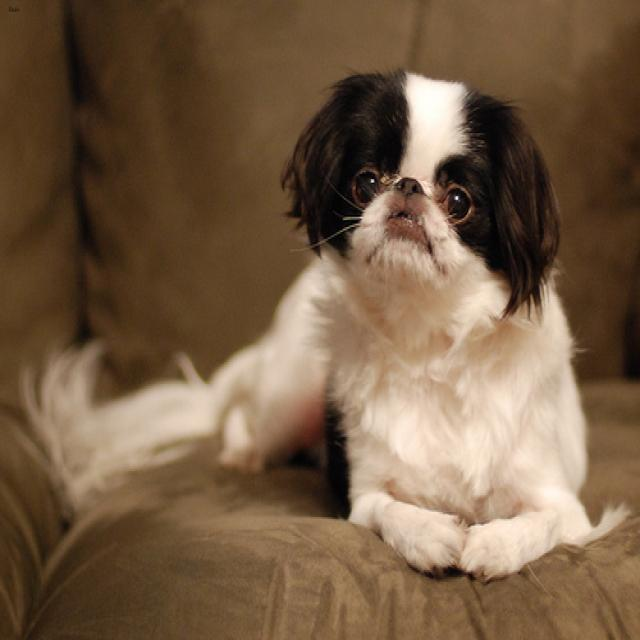dog-japanese_chin: (13, 55, 637, 587)
